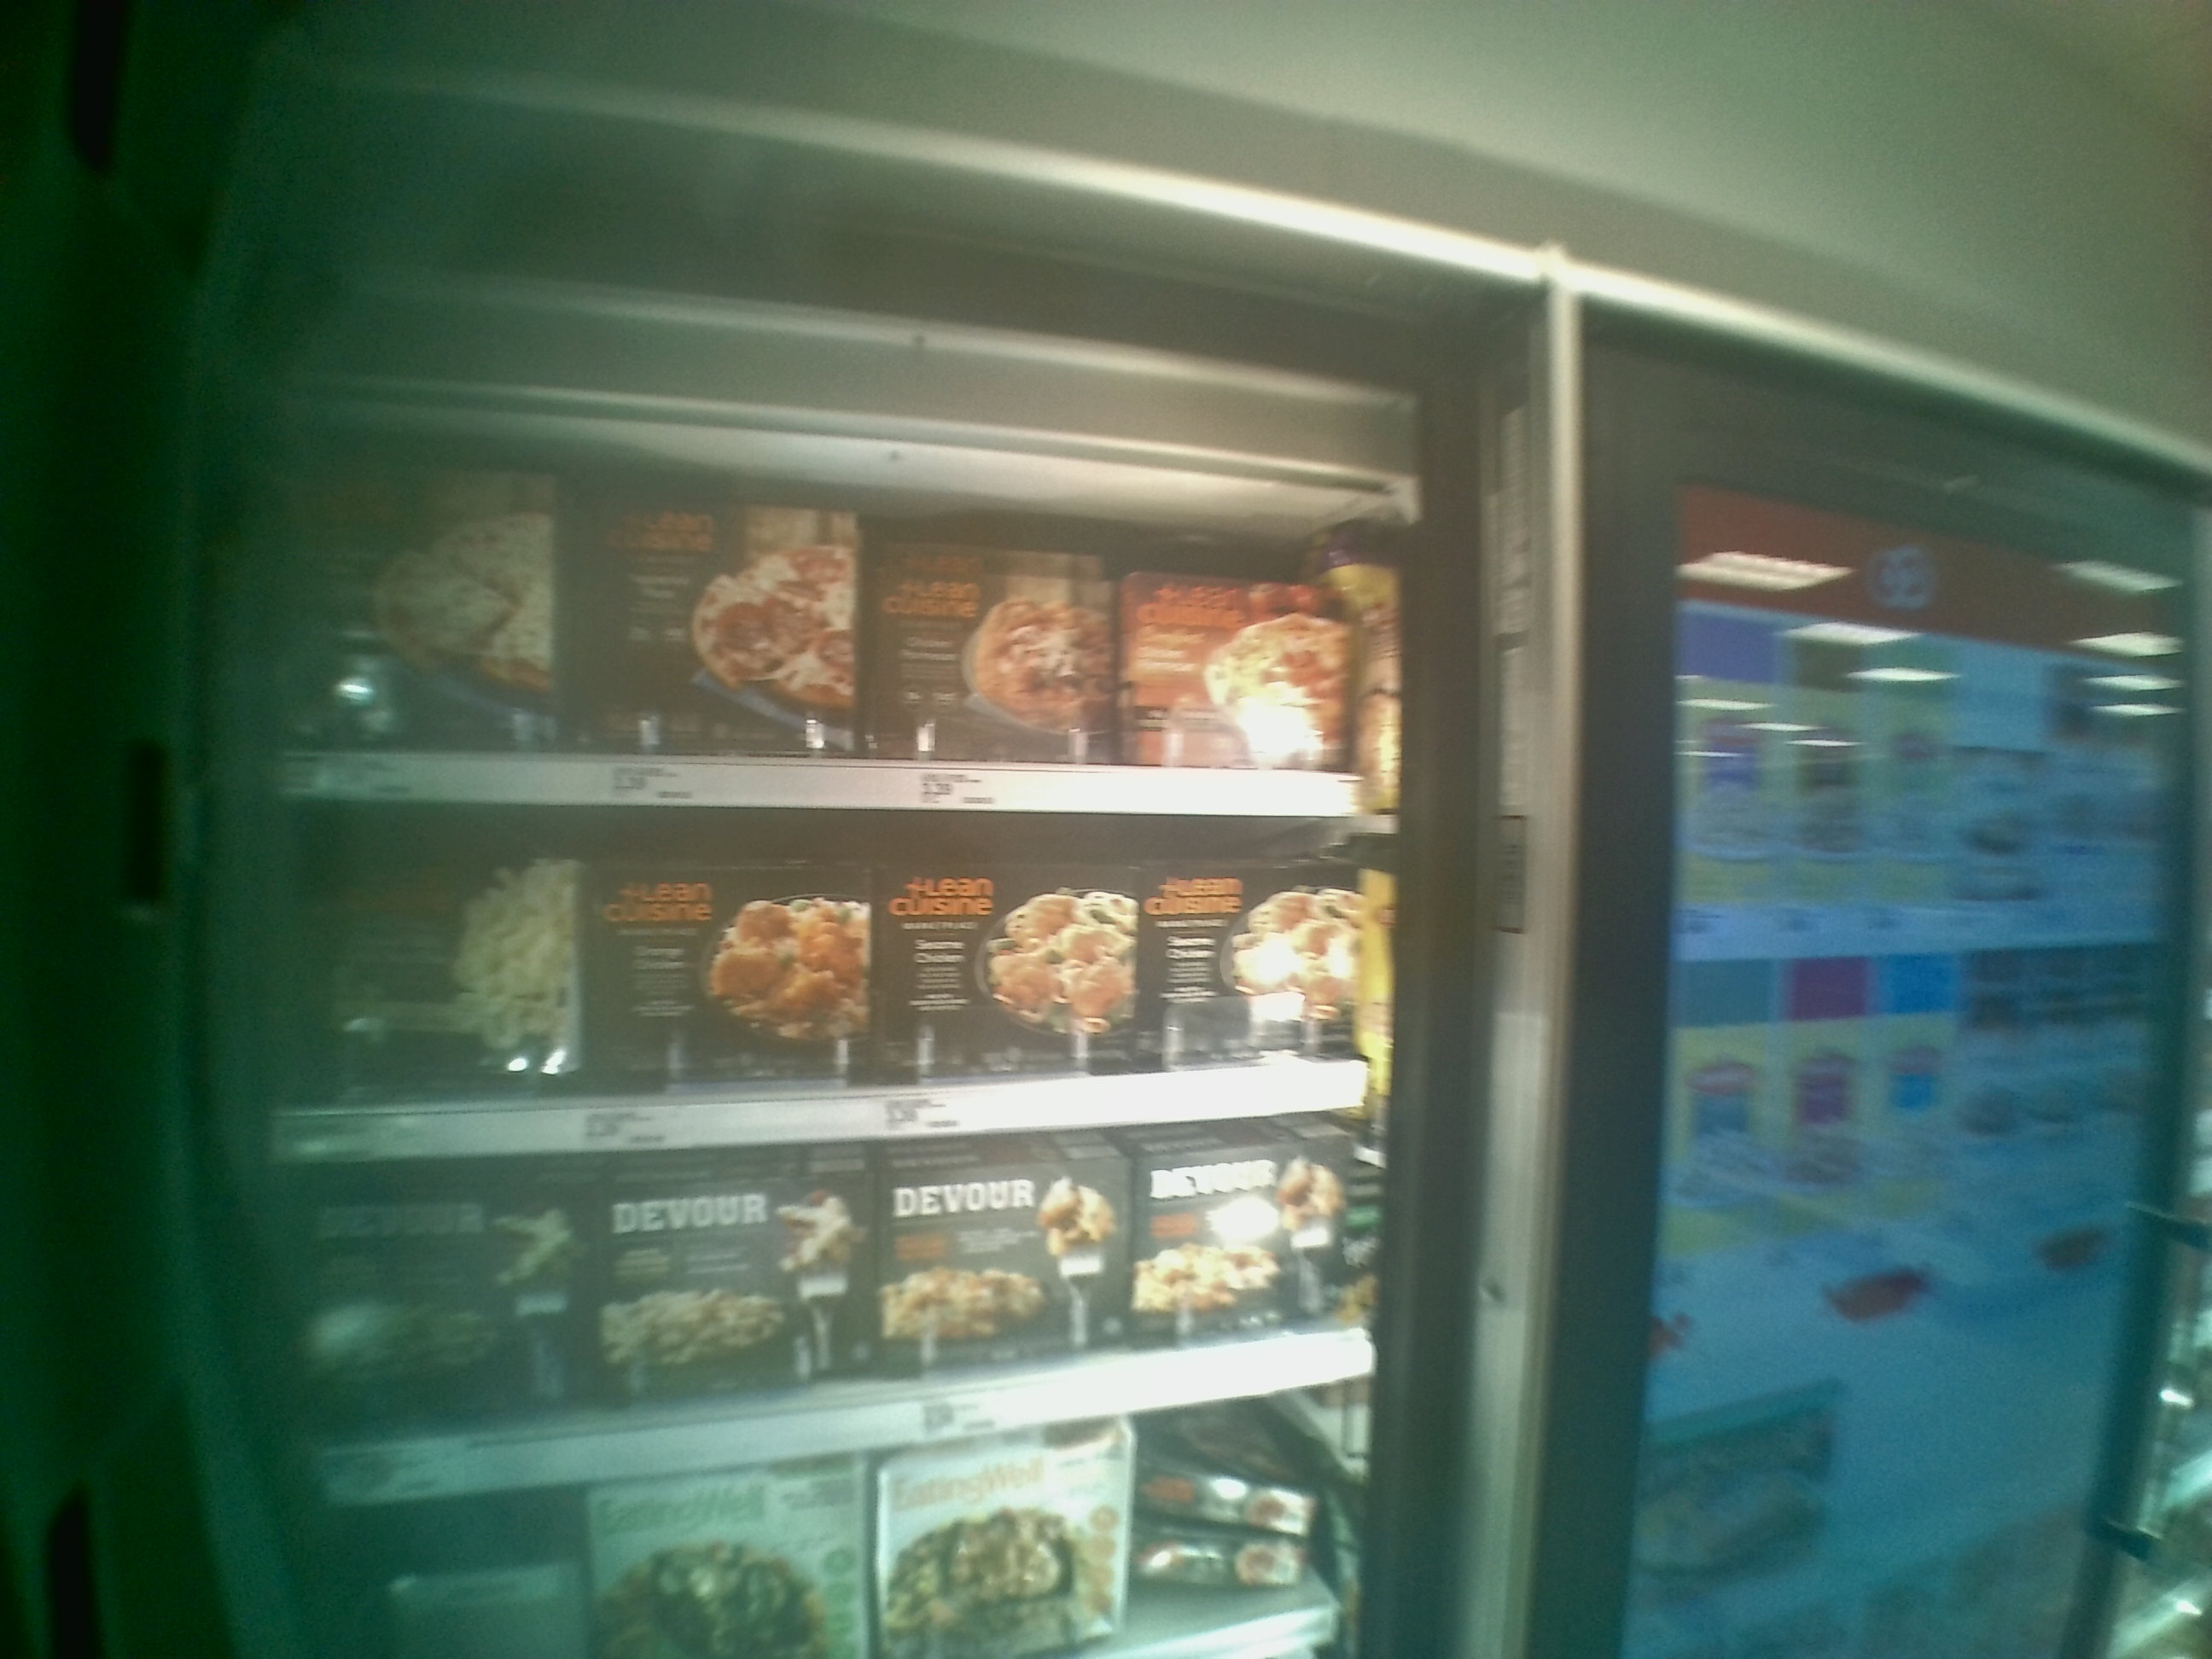shelf: (263, 420, 1388, 819), (261, 798, 1413, 1161)
